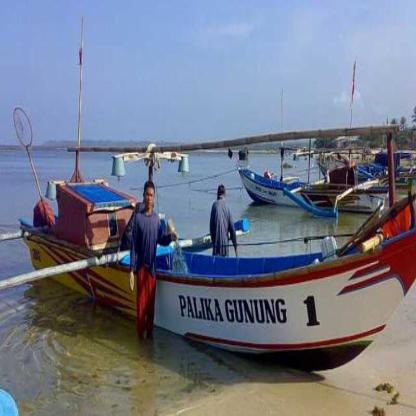boat: (240, 173, 384, 214)
fishing boat: (9, 244, 410, 380)
